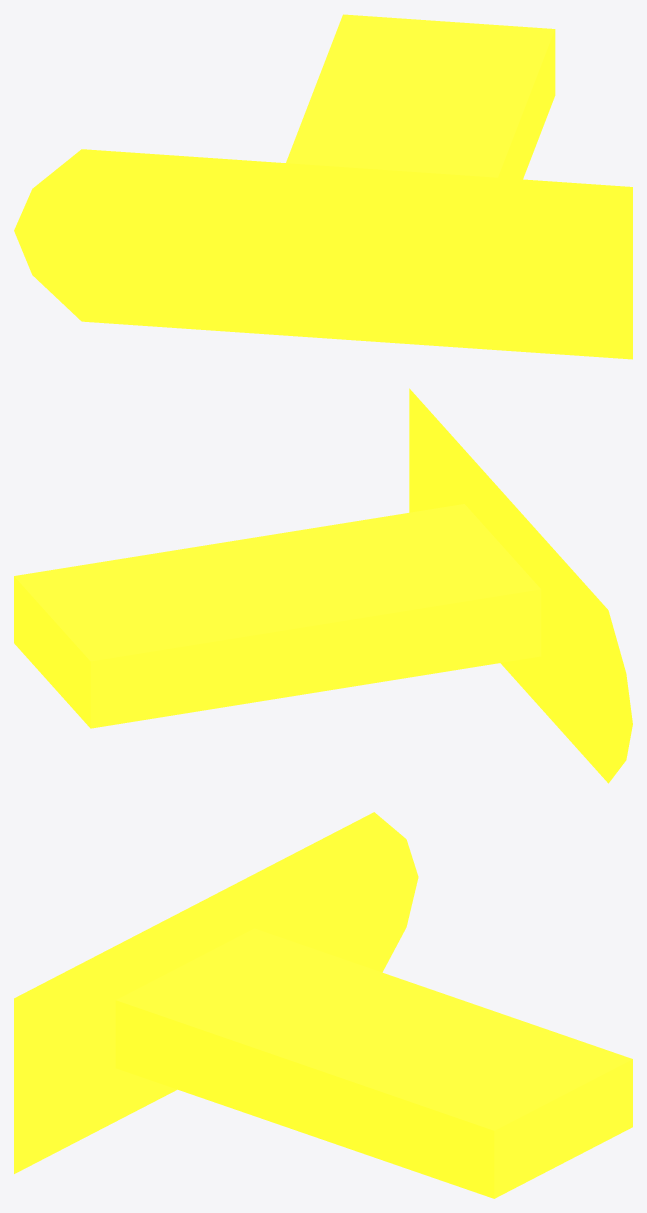
File: pointer_tem.glb
3 renders of one model, top to bottom at view 1: azimuth 30°, elevation 25°; view 2: azimuth 150°, elevation 25°; view 3: azimuth 270°, elevation 25°, orthographic.
Parts seen in each view (by area): view 1: 温度指针; view 2: 温度指针; view 3: 温度指针.
Boxes of the visible parts, left/top/right/bottom form: 温度指针: left=14, top=14, right=632, bottom=359; 温度指针: left=14, top=388, right=632, bottom=783; 温度指针: left=14, top=812, right=632, bottom=1198.
Bounding box in the file's own units: 0.043 × 0.0122 × 0.0391.
